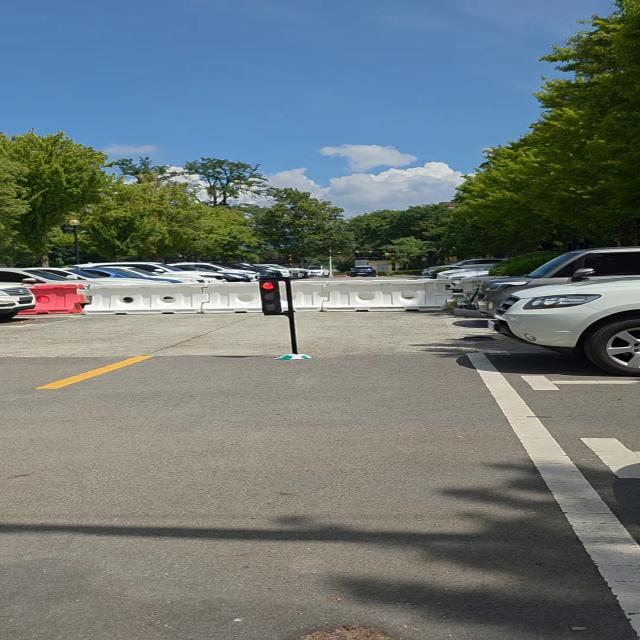red: (258, 278, 286, 315)
